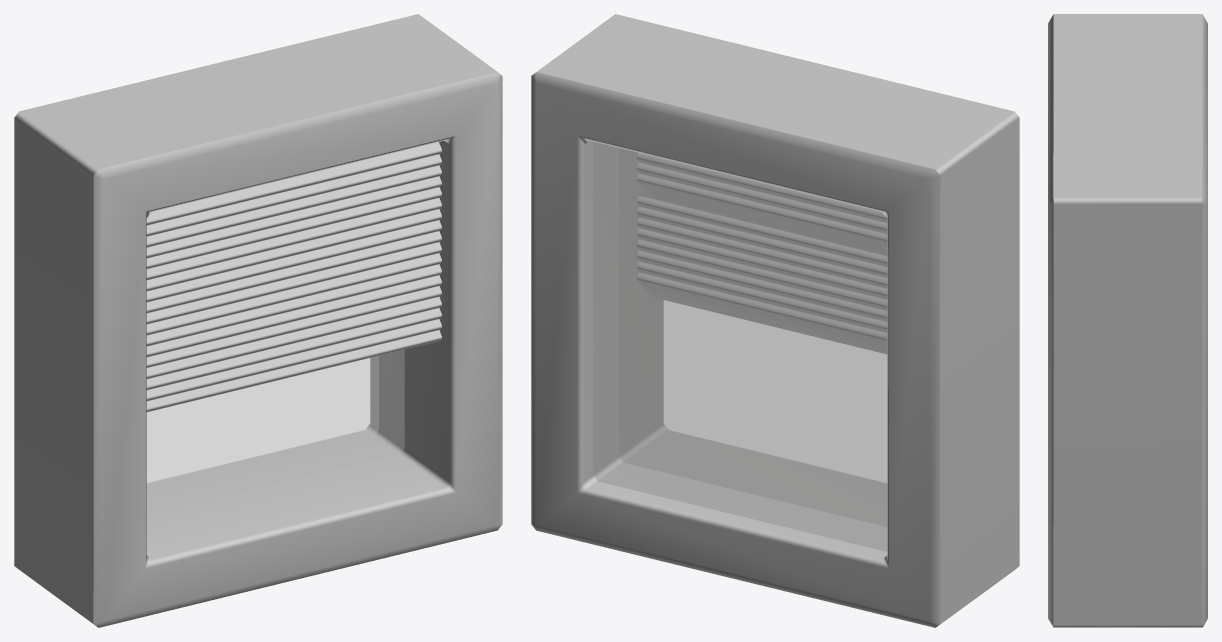
File: Window_30.fbx
3 renders of one model, left to right at view 1: azimuth 30°, elevation 25°; view 2: azimuth 150°, elevation 25°; view 3: azimuth 270°, elevation 25°, orthographic. The views are drawn at different scales.
Visible parts, largest first — view 1: Window_30; view 2: Window_30; view 3: Window_30.
Boxes of the visible parts, x1,y1,x2,y2 form: Window_30: [14, 14, 502, 627]; Window_30: [531, 14, 1019, 627]; Window_30: [1048, 14, 1207, 627].
Size of the model in its own units: 156 by 167 by 55.95.
